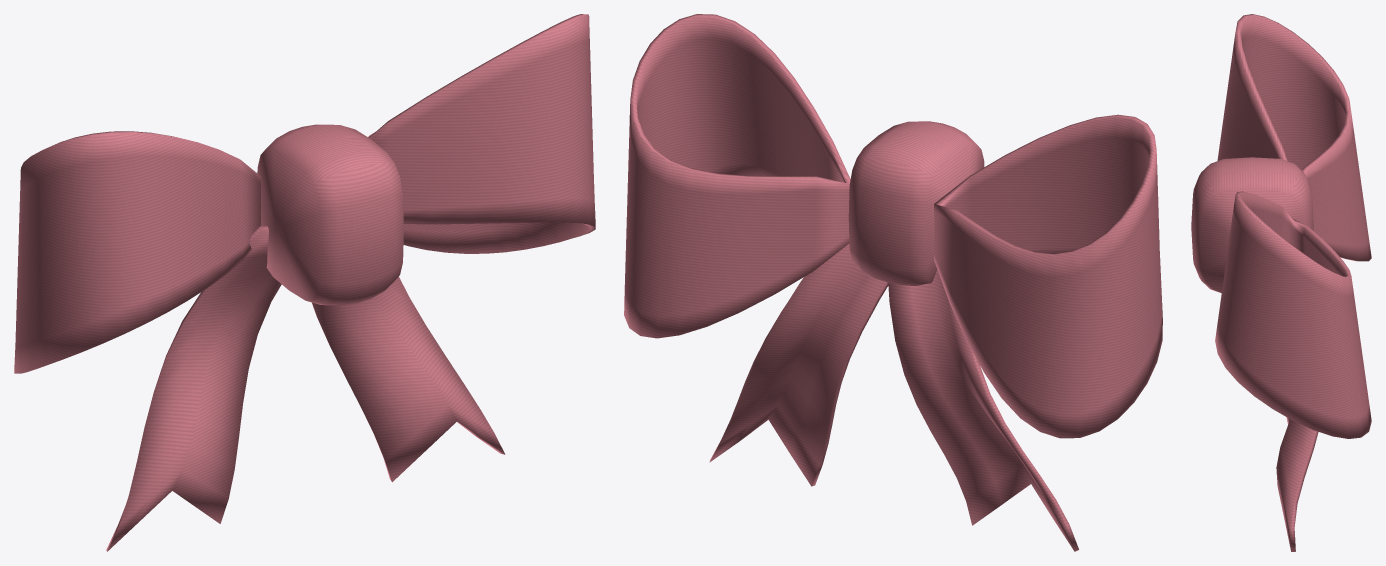
The model's file is KD_TailRibbon_Optimized.fbx.
The picture shows the model from 3 angles, left to right: view 1: azimuth 30°, elevation 25°; view 2: azimuth 150°, elevation 25°; view 3: azimuth 270°, elevation 25°; orthographic projection. The views are drawn at different scales.
Parts seen in each view (by area): view 1: KD_TailRibbon_Optimized; view 2: KD_TailRibbon_Optimized; view 3: KD_TailRibbon_Optimized.
Part boxes in pixels (<box>): KD_TailRibbon_Optimized: <box>14,14,595,551</box>; KD_TailRibbon_Optimized: <box>624,14,1162,551</box>; KD_TailRibbon_Optimized: <box>1191,14,1371,551</box>.
Size of the model in its own units: 0.15 by 0.1177 by 0.053.
1 material, 1 textured.
